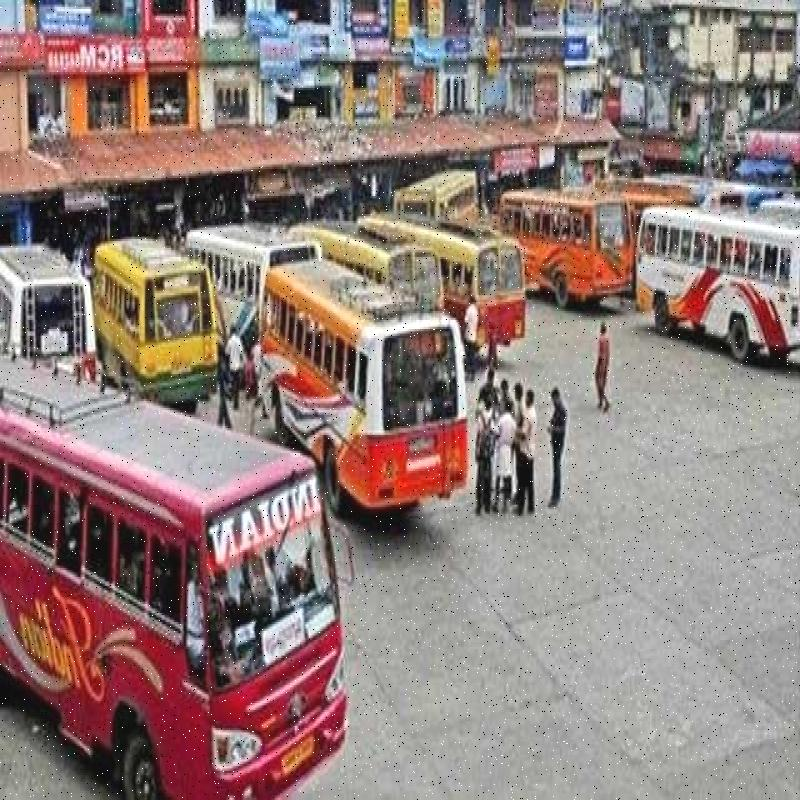bus: (0, 426, 334, 800), (264, 273, 485, 510), (610, 182, 800, 358)
